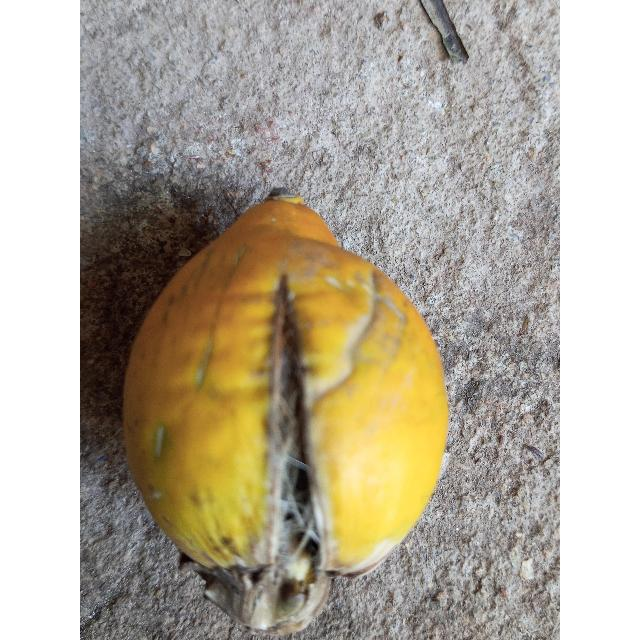damaged: (123, 193, 449, 637)
